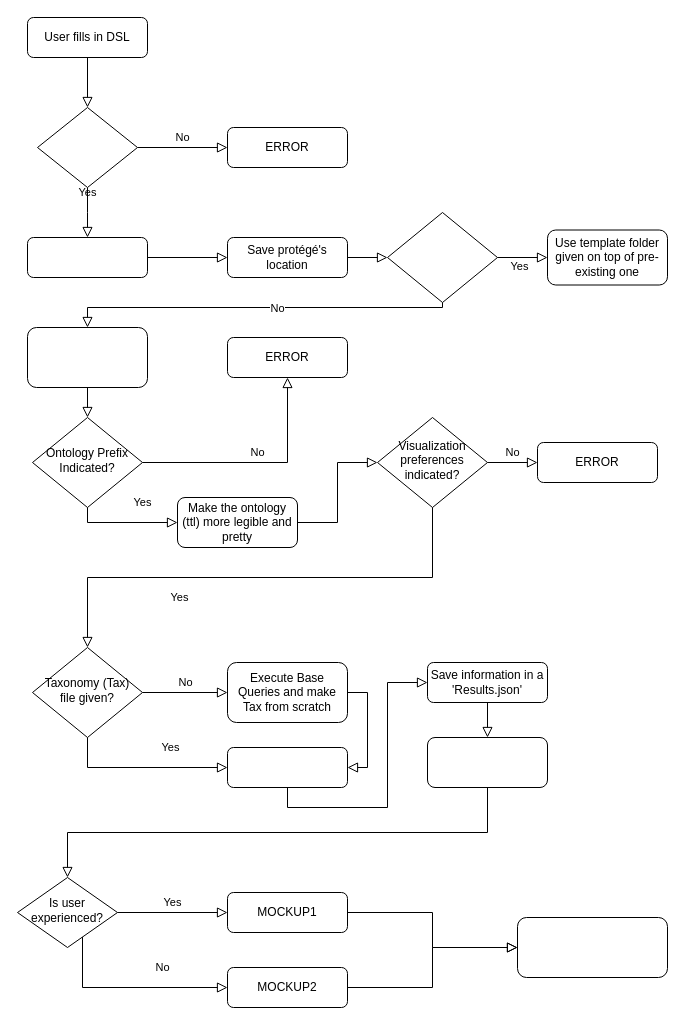
This 685x1025 diagram has some shape labels left out. Each missing label, with the box of its shape:
Go fetch Ontology: (26, 236, 148, 278)
Navigate, visualize and edit ontology's knowledge as it is rendered: (516, 916, 668, 978)
Ontology Configurations present?: (36, 106, 138, 188)
Save information in an external file ('Results.json'): (426, 736, 548, 788)
Start SPARQL Queries: (226, 746, 348, 788)
Template folder given?: (386, 212, 498, 302)
Use pre-existing template folder based on Ontology type: (26, 326, 148, 388)
